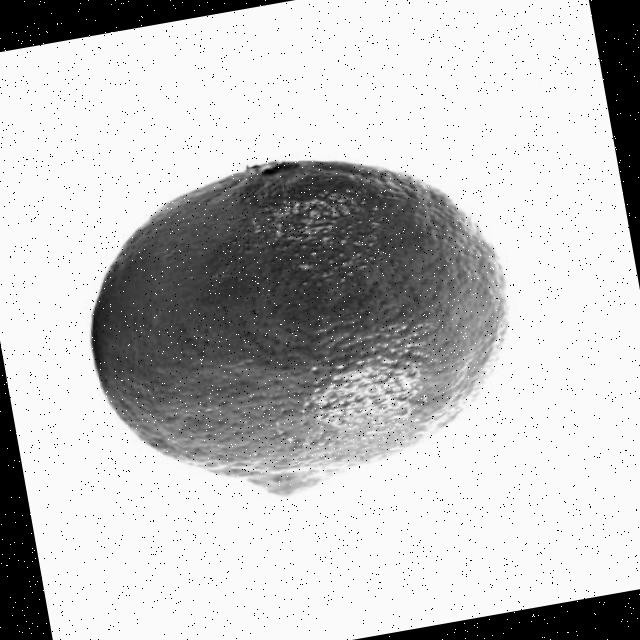Unripe: (64, 125, 538, 526)
